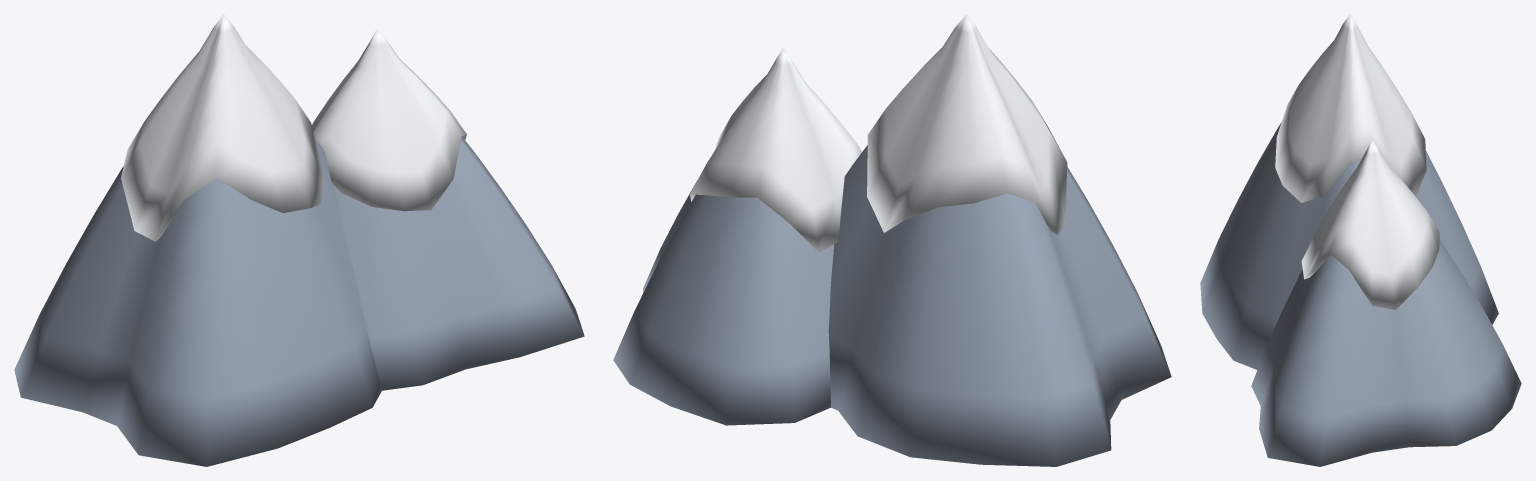
File: alpine-crag-ridge.glb
The picture shows the model from 3 angles, left to right: view 1: azimuth 30°, elevation 25°; view 2: azimuth 150°, elevation 25°; view 3: azimuth 270°, elevation 25°; orthographic projection. The views are drawn at different scales.
Visible parts, largest first — view 1: Peak_0, Peak_1, SnowCap_0, SnowCap_1; view 2: Peak_0, Peak_1, SnowCap_0, SnowCap_1; view 3: Peak_1, Peak_0, SnowCap_0, SnowCap_1.
Part boxes in pixels (box(x1,y1,x2,y2)): Peak_0: box(14, 137, 381, 466); Peak_1: box(334, 136, 584, 390); SnowCap_0: box(121, 14, 323, 241); SnowCap_1: box(312, 28, 466, 211); Peak_0: box(828, 145, 1171, 466); Peak_1: box(613, 180, 834, 425); SnowCap_0: box(867, 14, 1067, 234); SnowCap_1: box(689, 47, 861, 252); Peak_1: box(1251, 239, 1521, 466); Peak_0: box(1200, 122, 1498, 369); SnowCap_0: box(1275, 14, 1426, 202); SnowCap_1: box(1301, 139, 1439, 309).
Bounding box in the file's own units: 1.82 × 1.25 × 1.16.
